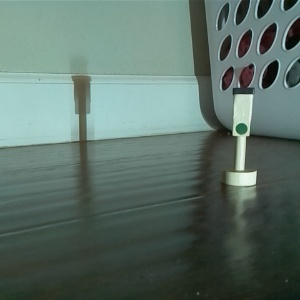traffic light green: (219, 84, 260, 189)
